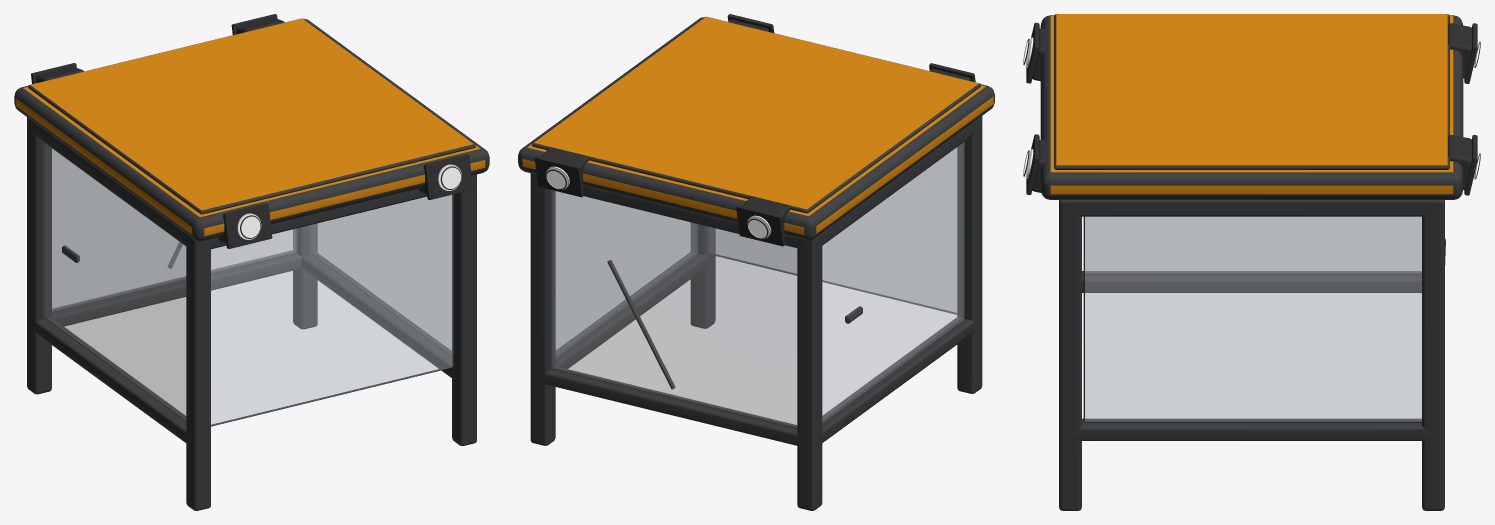
The model's file is cab_enclosed.glb.
The picture shows the model from 3 angles, left to right: view 1: azimuth 30°, elevation 25°; view 2: azimuth 150°, elevation 25°; view 3: azimuth 270°, elevation 25°; orthographic projection. The views are drawn at different scales.
Visible parts, largest first — view 1: cab_enclosed, cab_light_rear_r, cab_light_rear_l, cab_light_front_l, cab_light_front_r; view 2: cab_enclosed, cab_light_front_l, cab_light_front_r; view 3: cab_enclosed, cab_light_front_r, cab_light_front_l, cab_light_rear_r, cab_light_rear_l.
Part boxes in pixels (x1,y1,x2,y2): cab_enclosed: [14, 18, 489, 510]; cab_light_rear_r: [419, 154, 472, 199]; cab_light_rear_l: [218, 203, 272, 248]; cab_light_front_l: [31, 63, 83, 83]; cab_light_front_r: [231, 14, 284, 34]; cab_enclosed: [518, 16, 994, 510]; cab_light_front_l: [736, 196, 790, 246]; cab_light_front_r: [534, 147, 588, 197]; cab_enclosed: [1040, 14, 1463, 510]; cab_light_front_r: [1448, 135, 1480, 195]; cab_light_front_l: [1448, 23, 1480, 83]; cab_light_rear_r: [1023, 134, 1047, 194]; cab_light_rear_l: [1023, 22, 1047, 83].
Bounding box in the file's own units: 1.18 × 1.15 × 1.39.
